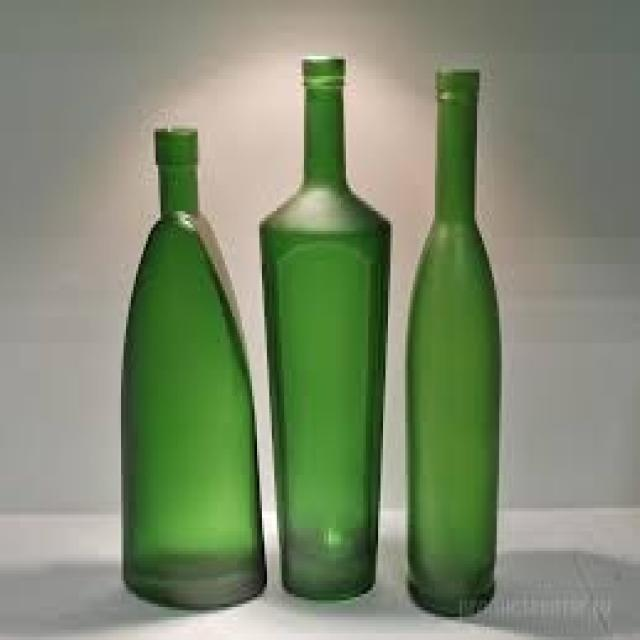glass: (257, 53, 390, 597), (119, 125, 265, 607), (403, 66, 499, 617)
